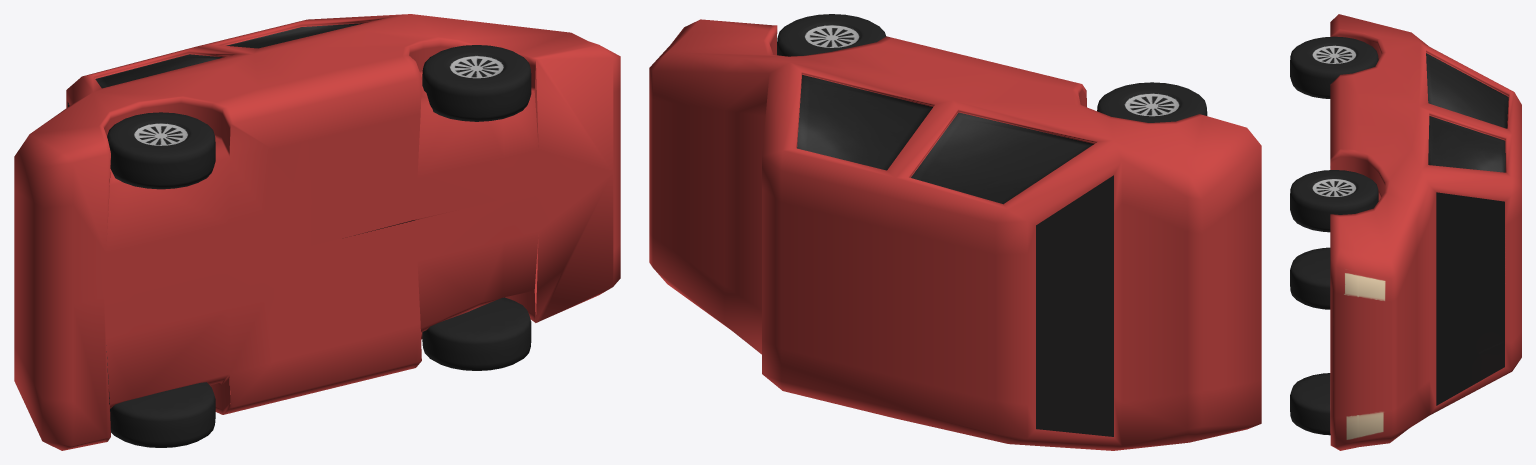
File: kotse2.fbx
3 views of the same model, side by side, from view 1: azimuth 30°, elevation 25°; view 2: azimuth 150°, elevation 25°; view 3: azimuth 270°, elevation 25° (orthographic). The views are drawn at different scales.
Parts seen in each view (by area): view 1: Cube, Cylinder.003, Cylinder.002, Cylinder, Cylinder.001; view 2: Cube, Cylinder.002, Cylinder.003; view 3: Cube, Cylinder.003, Cylinder.002, Cylinder, Cylinder.001.
Part boxes in pixels (left/top/right/bottom): Cube: left=14, top=14, right=620, bottom=450; Cylinder.003: left=422, top=45, right=531, bottom=121; Cylinder.002: left=107, top=112, right=215, bottom=189; Cylinder: left=422, top=297, right=531, bottom=370; Cylinder.001: left=109, top=382, right=215, bottom=447; Cube: left=649, top=19, right=1261, bottom=450; Cylinder.002: left=1097, top=82, right=1207, bottom=122; Cylinder.003: left=777, top=14, right=886, bottom=56; Cube: left=1330, top=14, right=1521, bottom=450; Cylinder.003: left=1290, top=170, right=1378, bottom=232; Cylinder.002: left=1290, top=36, right=1378, bottom=98; Cylinder: left=1290, top=373, right=1330, bottom=435; Cylinder.001: left=1290, top=247, right=1330, bottom=309.
Size of the model in its own units: 1165 by 594 by 500.
